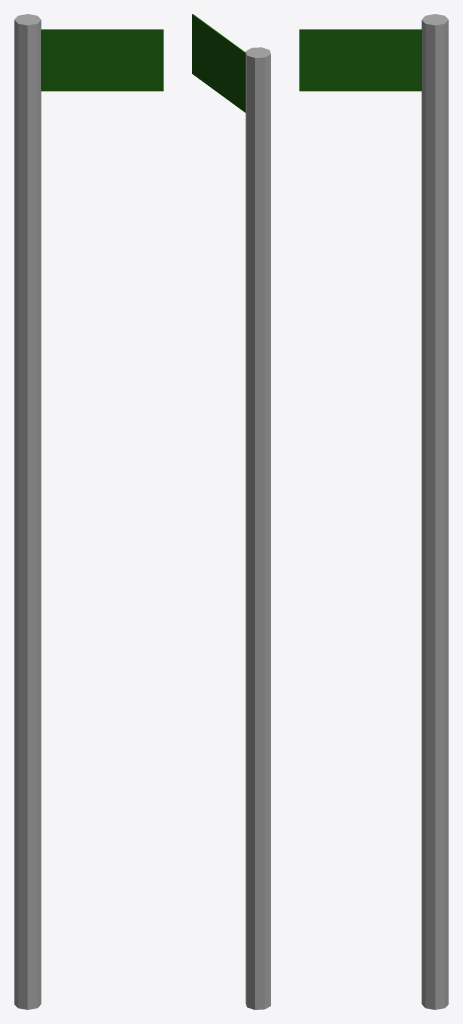
File: ParkSign.fbx
3 renders of one model, left to right at view 1: azimuth 90°, elevation 25°; view 2: azimuth 210°, elevation 25°; view 3: azimuth 270°, elevation 25°, orthographic. The views are drawn at different scales.
Visible parts, largest first — view 1: Cylinder, Cube; view 2: Cylinder, Cube; view 3: Cylinder, Cube.
Part boxes in pixels (x1=…): Cylinder: x1=14, y1=14, x2=41, y2=1009; Cube: x1=41, y1=29, x2=163, y2=91; Cylinder: x1=245, y1=47, x2=270, y2=1009; Cube: x1=192, y1=14, x2=245, y2=112; Cylinder: x1=421, y1=14, x2=448, y2=1009; Cube: x1=299, y1=29, x2=421, y2=91.
Bounding box in the file's own units: 10 × 400 × 55.07.
